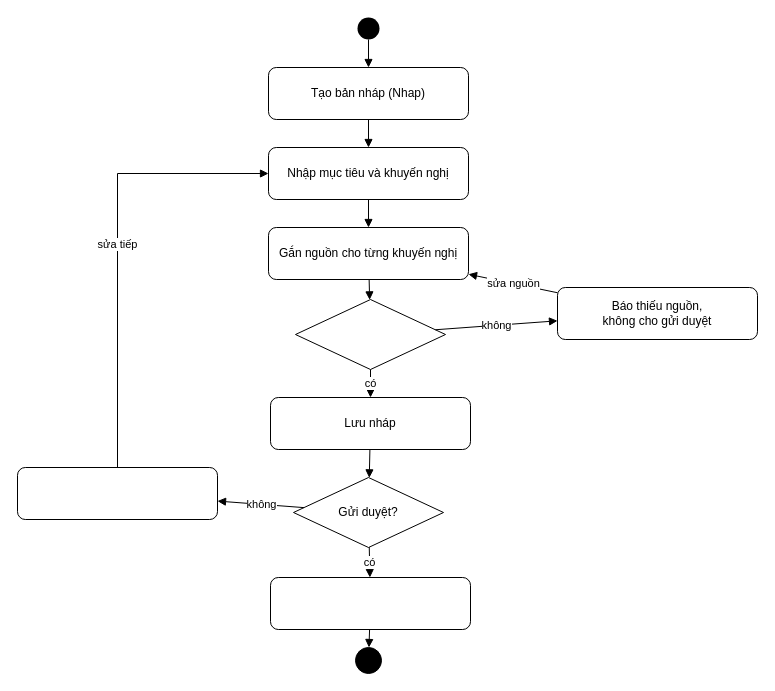
Some shapes in this 775 by 691 pixel diagram are drawn without their labels. The shapes that lost their labels are listed below. From the top down, each one's centre as x and y in pixels, then its label:
the point at 370,334: Mọi khuyến nghị có nguồn? (BR04)
the point at 117,493: Tiếp tục soạn
the point at 370,603: Khóa nội dung, chuyển ChoDuyet (BR03)
